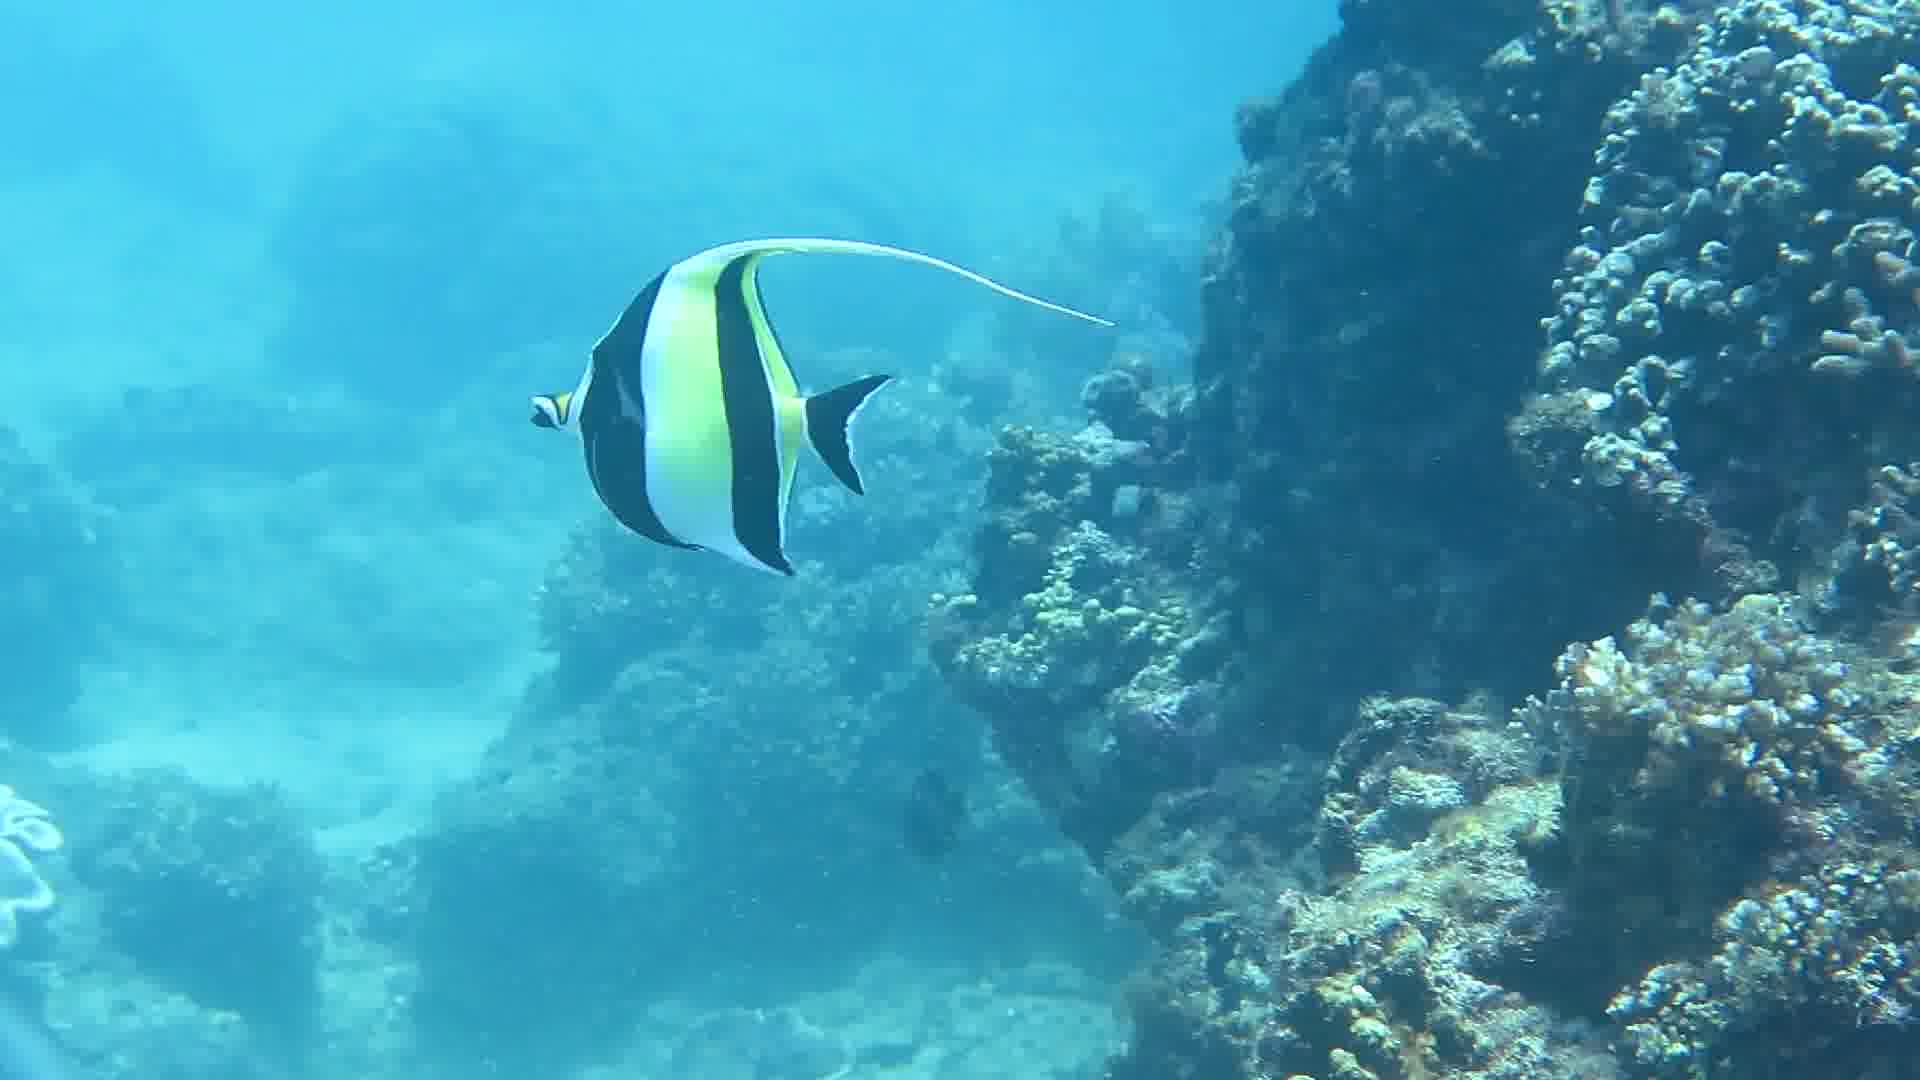Zanclus cornutus: (538, 206, 895, 626)
